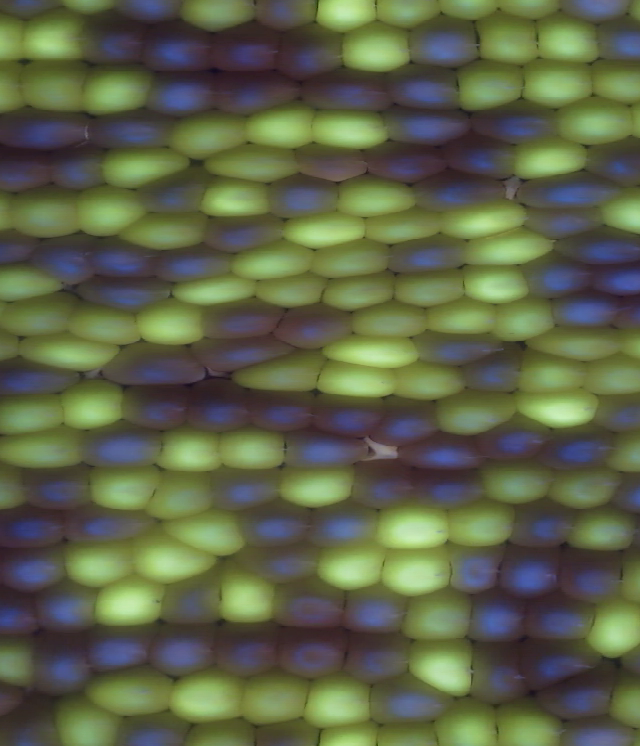fluorescent: (78, 657, 186, 721), (401, 632, 487, 703), (163, 662, 256, 727), (94, 142, 202, 197), (209, 554, 288, 629), (130, 526, 224, 589), (547, 89, 640, 152), (397, 583, 481, 652), (231, 664, 317, 731), (158, 503, 254, 563), (11, 52, 98, 118), (10, 328, 127, 377), (228, 345, 336, 398), (161, 107, 259, 165), (367, 495, 463, 553), (6, 179, 90, 245), (53, 534, 146, 593), (507, 343, 599, 401), (68, 179, 151, 243), (453, 225, 566, 272), (467, 6, 546, 73), (448, 54, 532, 117), (333, 16, 421, 76), (438, 496, 526, 556), (298, 668, 378, 734), (470, 456, 564, 512), (199, 141, 310, 188), (76, 59, 160, 121), (127, 293, 216, 351), (314, 329, 428, 374), (430, 388, 523, 443), (434, 194, 536, 244), (86, 571, 171, 631), (516, 53, 600, 113), (501, 132, 594, 186), (540, 459, 631, 514), (524, 322, 630, 369), (14, 4, 93, 67), (488, 689, 575, 746), (192, 172, 282, 227), (511, 385, 612, 434), (114, 207, 214, 256), (273, 208, 377, 255), (272, 461, 366, 513), (83, 461, 168, 518), (329, 169, 422, 221), (530, 6, 604, 71), (300, 235, 398, 284), (376, 544, 457, 603), (226, 238, 323, 287), (0, 427, 97, 476), (312, 536, 392, 595), (308, 357, 406, 405), (303, 103, 397, 153), (49, 692, 136, 746), (56, 372, 133, 433), (139, 466, 218, 525), (314, 266, 406, 316), (426, 692, 511, 746), (241, 95, 321, 152), (210, 422, 297, 474), (353, 206, 450, 251), (62, 298, 147, 349), (418, 292, 504, 342), (563, 503, 640, 558), (388, 359, 476, 406), (486, 291, 557, 349), (388, 264, 472, 313), (454, 258, 538, 307), (163, 268, 263, 309), (149, 423, 229, 474), (583, 593, 640, 663), (350, 298, 437, 343), (0, 291, 80, 339), (0, 388, 72, 439), (0, 256, 67, 309), (171, 1, 265, 38), (253, 267, 331, 311), (0, 626, 47, 697), (579, 348, 640, 402), (582, 54, 640, 108), (591, 179, 640, 239), (370, 1, 448, 36), (308, 1, 380, 36), (604, 664, 640, 734), (0, 55, 30, 123), (0, 9, 34, 68), (0, 455, 32, 517), (604, 425, 640, 476)
nonfluorescent: (101, 336, 212, 394), (512, 632, 611, 697), (71, 413, 173, 476), (224, 535, 336, 592), (401, 9, 494, 77), (229, 492, 326, 557), (361, 671, 463, 731), (533, 659, 627, 724), (72, 3, 158, 74), (53, 498, 168, 551), (379, 55, 474, 118), (208, 65, 311, 123), (198, 16, 290, 79), (126, 159, 221, 219), (516, 168, 629, 218), (132, 19, 226, 79), (402, 167, 517, 216), (270, 619, 354, 686), (298, 63, 400, 118), (514, 586, 604, 648), (81, 103, 181, 158), (299, 493, 391, 552), (154, 564, 232, 633), (271, 18, 350, 86), (13, 459, 107, 516), (268, 573, 353, 636), (343, 455, 432, 515), (199, 456, 290, 514), (0, 102, 99, 155), (471, 97, 568, 151), (391, 428, 497, 477), (208, 615, 282, 685), (23, 625, 93, 699), (143, 616, 218, 685), (28, 573, 106, 639), (336, 625, 419, 687), (359, 138, 456, 191), (379, 101, 477, 153), (182, 334, 298, 377), (113, 379, 202, 435), (503, 494, 586, 554), (177, 376, 258, 437), (381, 229, 474, 282), (366, 393, 448, 453), (466, 635, 533, 708), (28, 228, 103, 293), (554, 546, 631, 609), (239, 382, 324, 439), (271, 301, 359, 356), (408, 325, 513, 371), (306, 385, 389, 443), (199, 294, 291, 346), (141, 67, 224, 124), (0, 353, 90, 405), (550, 223, 640, 274), (199, 211, 294, 259), (76, 273, 182, 316), (278, 427, 377, 473), (339, 583, 416, 642), (538, 421, 622, 475), (74, 621, 148, 682), (518, 247, 600, 302), (408, 462, 493, 515), (143, 243, 239, 289), (86, 228, 162, 286), (446, 131, 526, 186), (473, 412, 553, 467), (261, 172, 347, 223), (494, 541, 567, 601), (464, 585, 534, 647), (0, 501, 77, 557), (439, 537, 508, 598), (288, 141, 378, 187), (459, 341, 528, 401), (516, 201, 613, 242), (0, 542, 73, 596), (544, 287, 628, 332), (0, 694, 71, 746), (49, 144, 113, 199), (580, 136, 640, 191), (0, 142, 59, 197), (549, 712, 640, 746), (588, 12, 640, 68), (247, 1, 320, 37), (589, 387, 640, 437), (588, 257, 640, 305), (0, 224, 47, 276), (0, 584, 40, 641), (111, 1, 189, 28), (0, 668, 34, 729), (607, 467, 640, 521), (608, 286, 640, 336)
